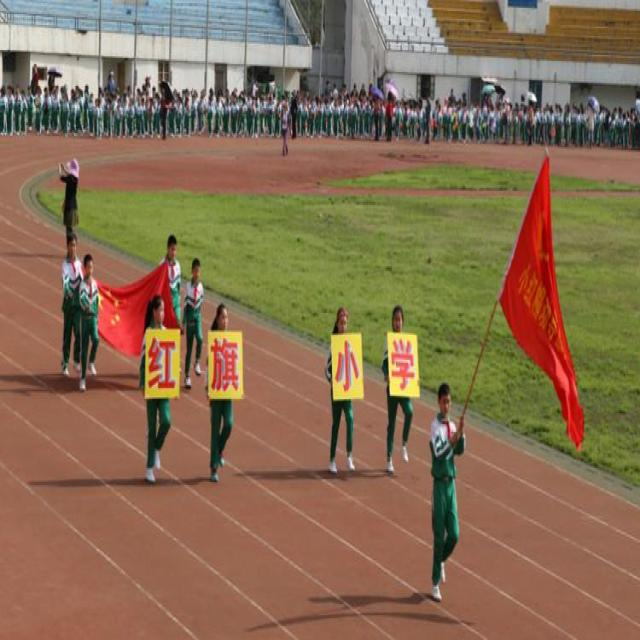non-fight: (430, 382, 464, 604), (141, 296, 171, 480), (325, 302, 356, 474), (383, 304, 411, 477), (208, 303, 234, 483), (62, 234, 82, 380), (80, 252, 98, 389), (185, 255, 203, 387), (57, 158, 79, 259), (163, 236, 180, 329)
